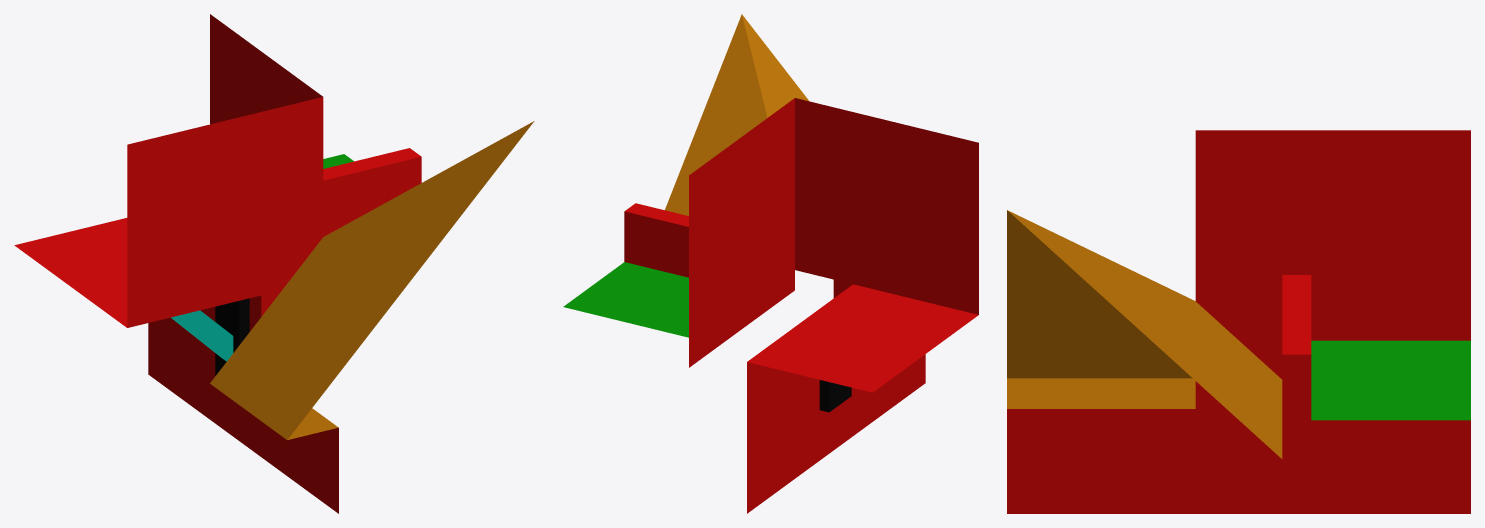
3 views of the same model, side by side, from view 1: azimuth 30°, elevation 25°; view 2: azimuth 150°, elevation 25°; view 3: azimuth 270°, elevation 25° (orthographic). The views are drawn at different scales.
Visible parts, largest first — view 1: None_W_S_E_E_E_E_A_E_None; view 2: None_W_S_E_E_E_E_A_E_None; view 3: None_W_S_E_E_E_E_A_E_None.
Part boxes in pixels (bbox=[...]): None_W_S_E_E_E_E_A_E_None: bbox=[14, 14, 534, 513]; None_W_S_E_E_E_E_A_E_None: bbox=[563, 14, 978, 513]; None_W_S_E_E_E_E_A_E_None: bbox=[1007, 130, 1470, 513].
Size of the model in its own units: 100 by 100 by 100.
